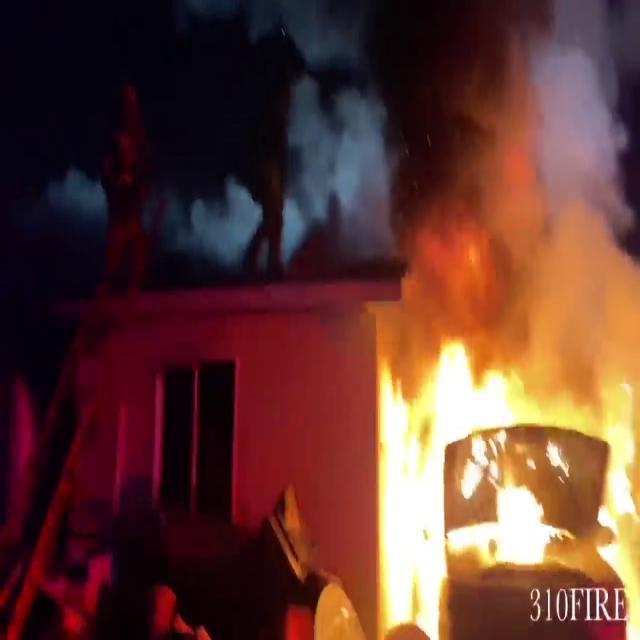Fire: (369, 324, 640, 638)
Smoke: (394, 0, 634, 316)
